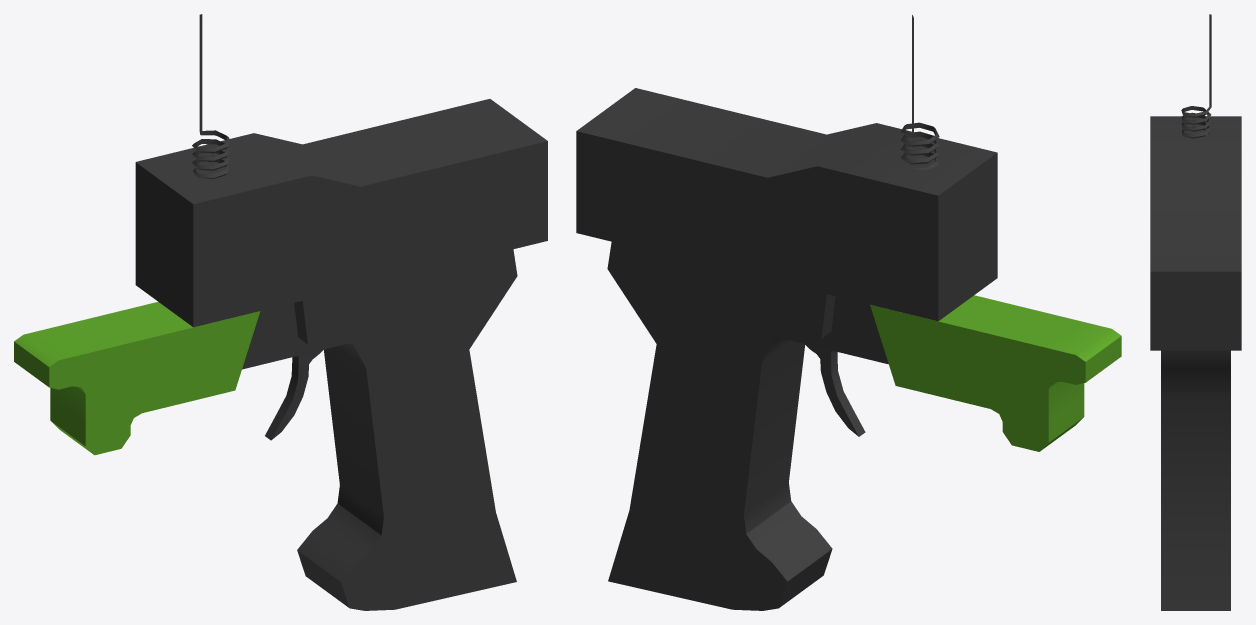
The model's file is Trigger.fbx.
3 views of the same model, side by side, from view 1: azimuth 30°, elevation 25°; view 2: azimuth 150°, elevation 25°; view 3: azimuth 270°, elevation 25° (orthographic). The views are drawn at different scales.
Parts seen in each view (by area): view 1: polySurface101; view 2: polySurface101; view 3: polySurface101.
Boxes of the visible parts, box(x1,y1,x2,y2) form: polySurface101: box(14, 14, 547, 610); polySurface101: box(576, 15, 1121, 610); polySurface101: box(1150, 14, 1241, 610).
Bounding box in the file's own units: 70.38 × 84.86 × 14.47.
